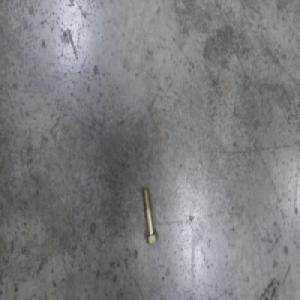Bolt: (141, 188, 159, 245)
